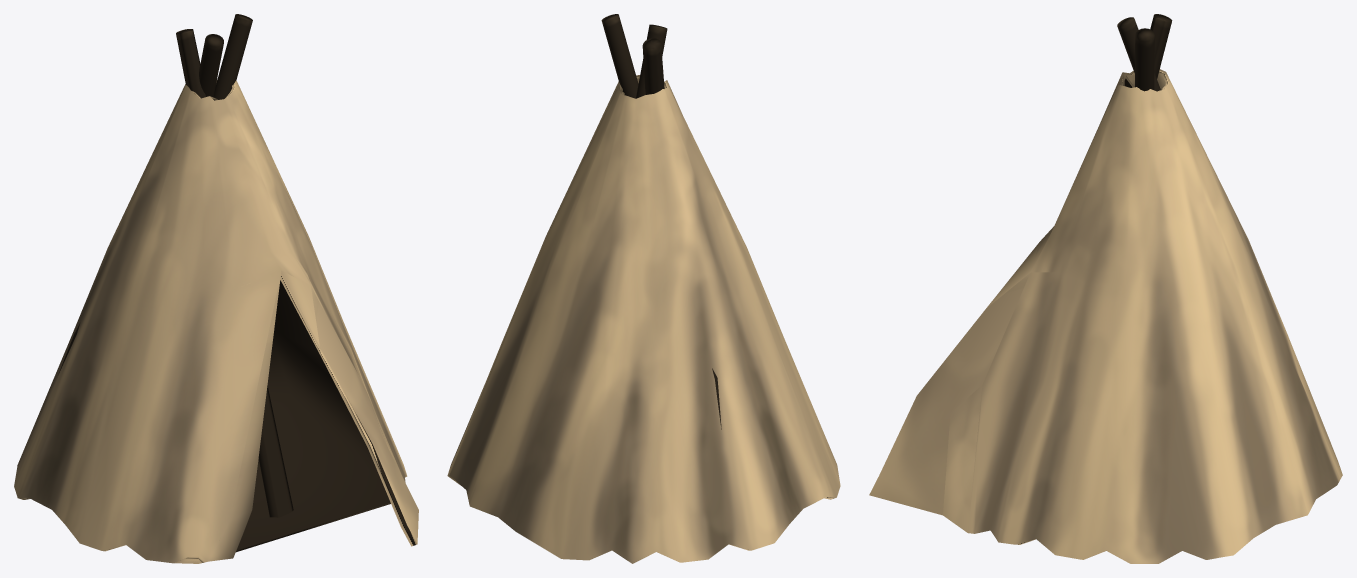
The model's file is SM_TikiTent_02.fbx.
3 views of the same model, side by side, from view 1: azimuth 30°, elevation 25°; view 2: azimuth 150°, elevation 25°; view 3: azimuth 270°, elevation 25° (orthographic).
Visible parts, largest first — view 1: Cylinder.002; view 2: Cylinder.002; view 3: Cylinder.002.
Part boxes in pixels (bbox=[...]): Cylinder.002: bbox=[14, 14, 418, 563]; Cylinder.002: bbox=[447, 14, 840, 563]; Cylinder.002: bbox=[869, 14, 1342, 563].
Size of the model in its own units: 234 by 312 by 284.
